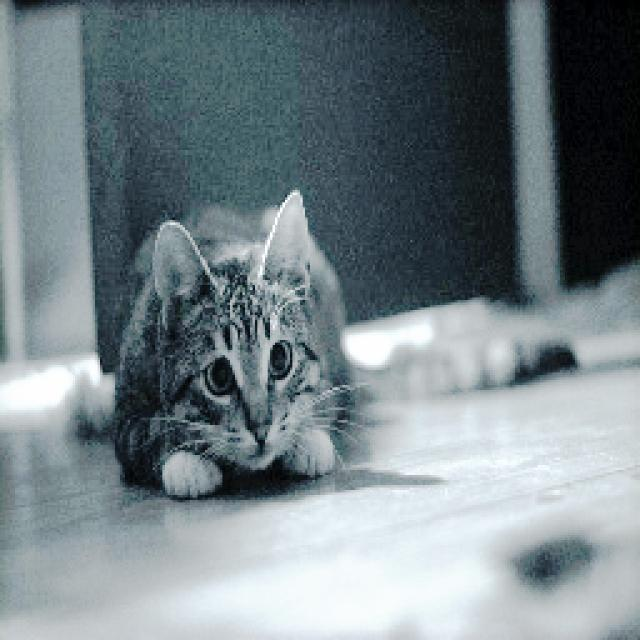cat: (95, 185, 375, 498)
